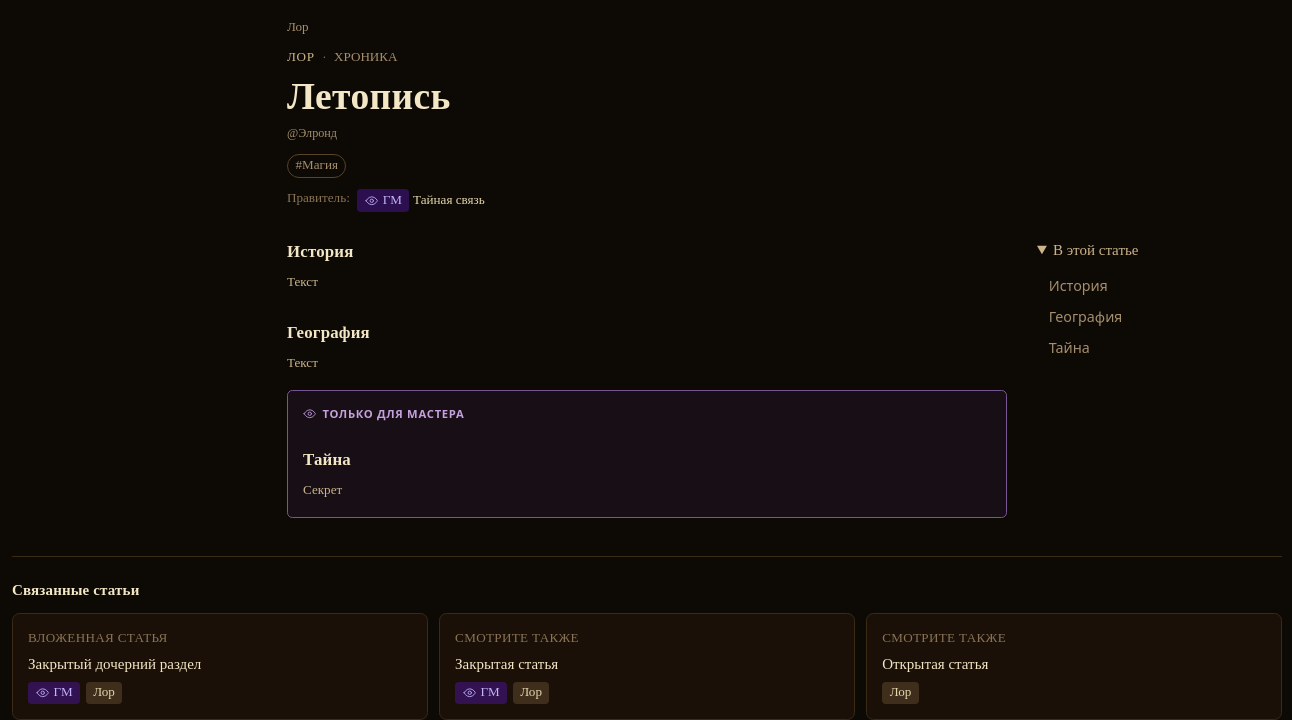
Test: Lore navigation and filters › returns to the top when opening a related article
The image size is (1292, 720).
(page scrolled)
What coordinates should you click on to do the following:
click the link "Смотрите также Открытая статья Лор"
I would click on:
 (944, 638)
Its box is x1=866 y1=613 x2=1282 y2=719.
(page scrolled)
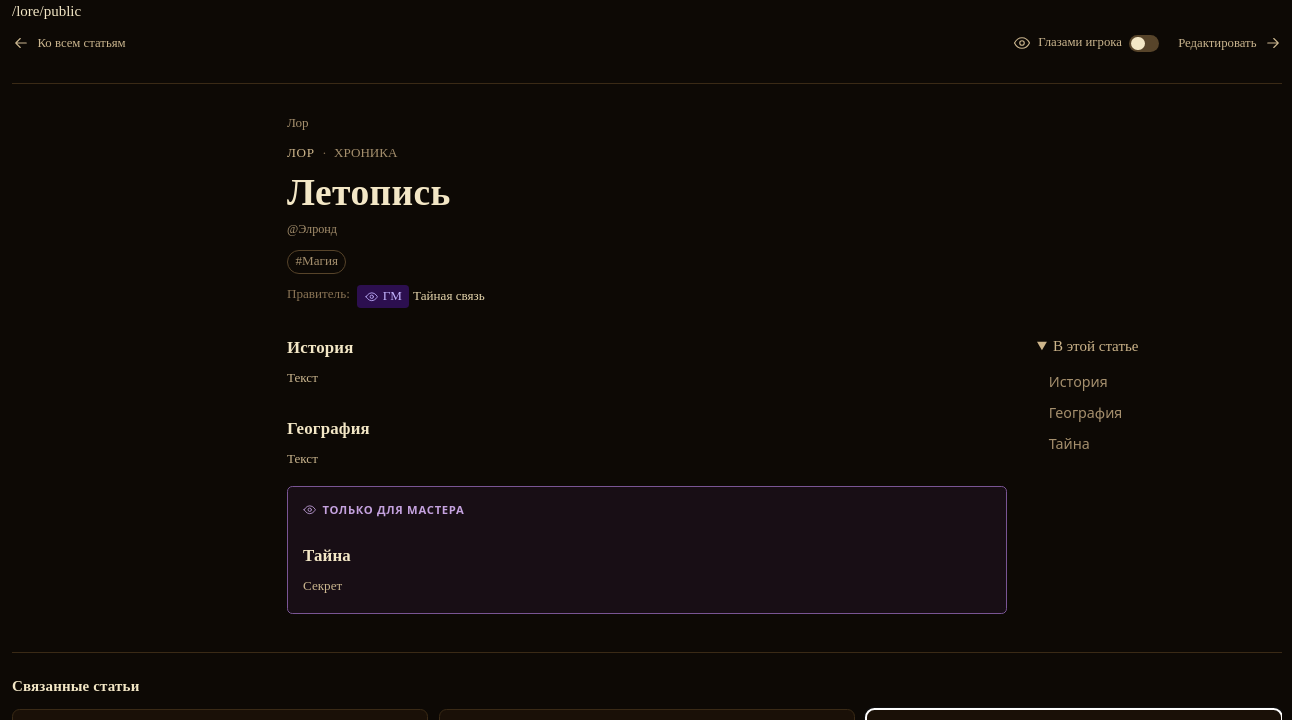
Expected: the text with test id "location" reads "/lore/public", x1=12 y1=3 x2=81 y2=19
